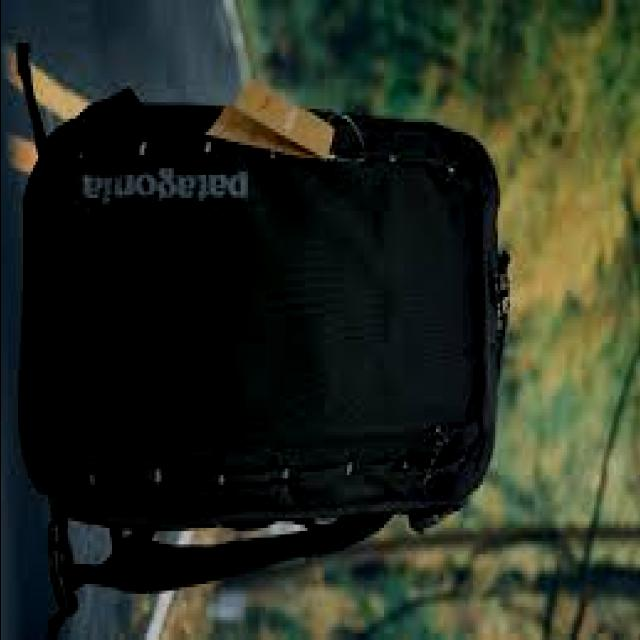backpack: (19, 44, 513, 622)
